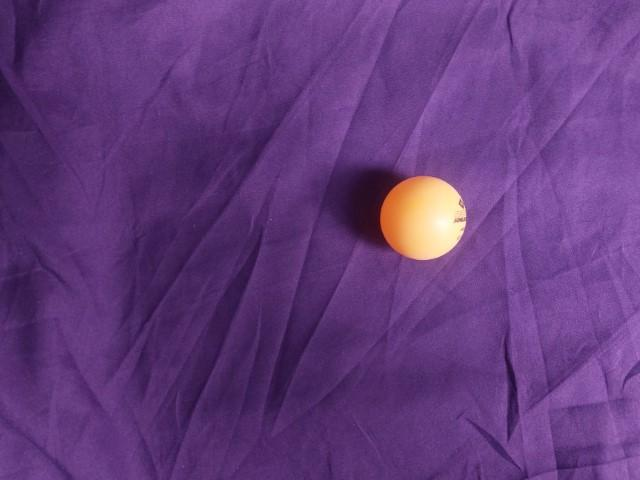oball: (168, 212, 265, 313)
